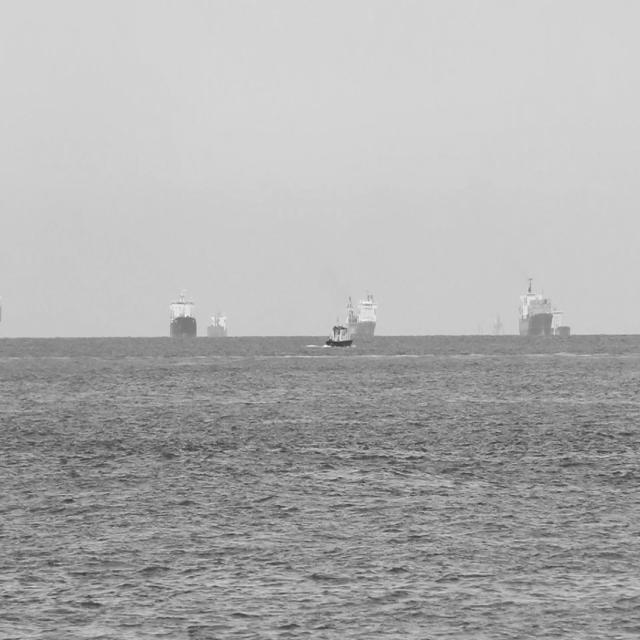ship: (518, 272, 550, 338), (342, 286, 377, 343), (166, 283, 199, 343), (323, 309, 354, 353), (206, 306, 230, 344), (551, 300, 572, 340), (490, 311, 508, 338)
